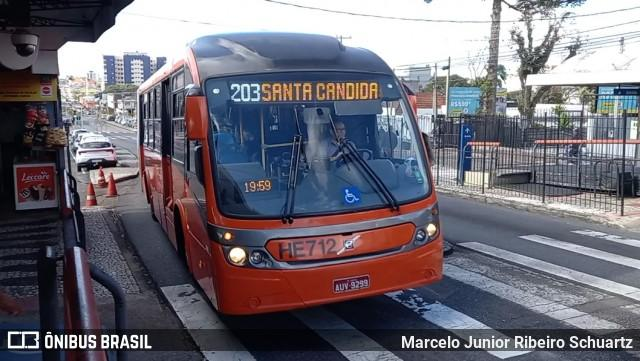SANTA CANDIDA: (258, 78, 382, 106)
